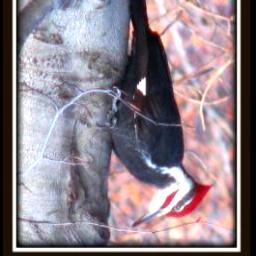Woodpecker: (96, 0, 214, 229)
